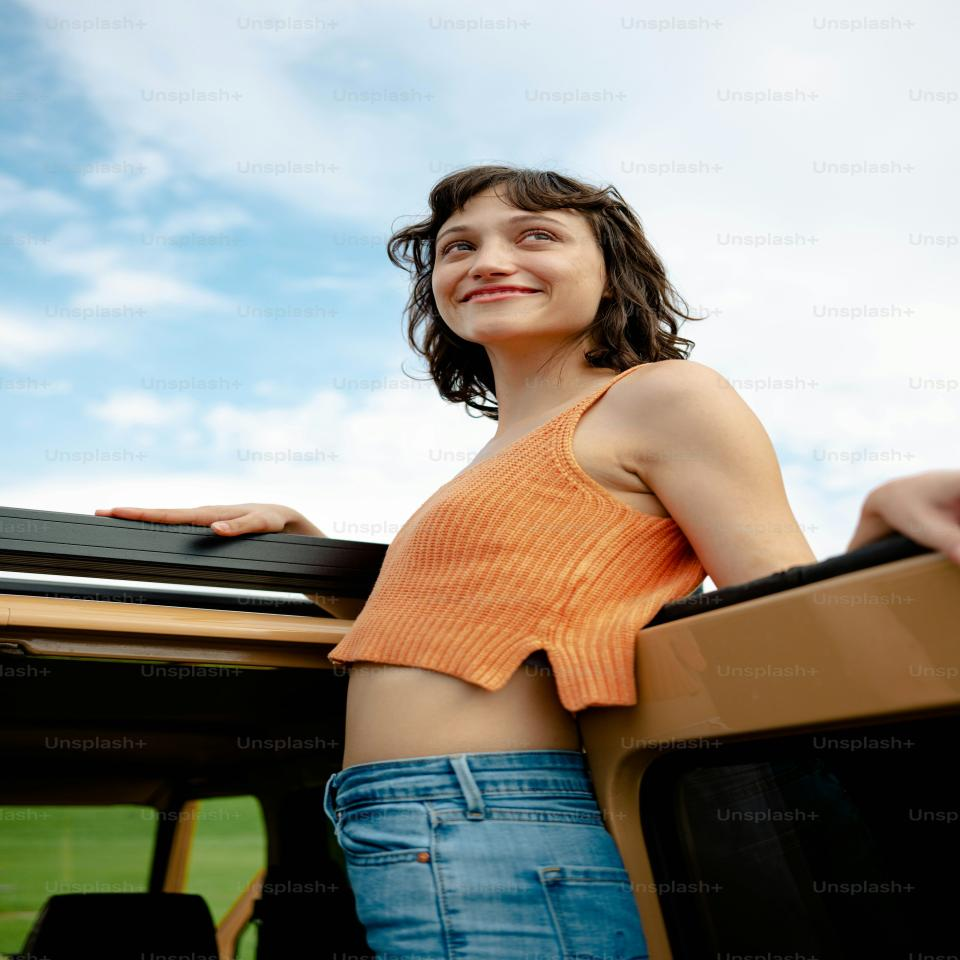Happiness: (429, 210, 615, 347)
